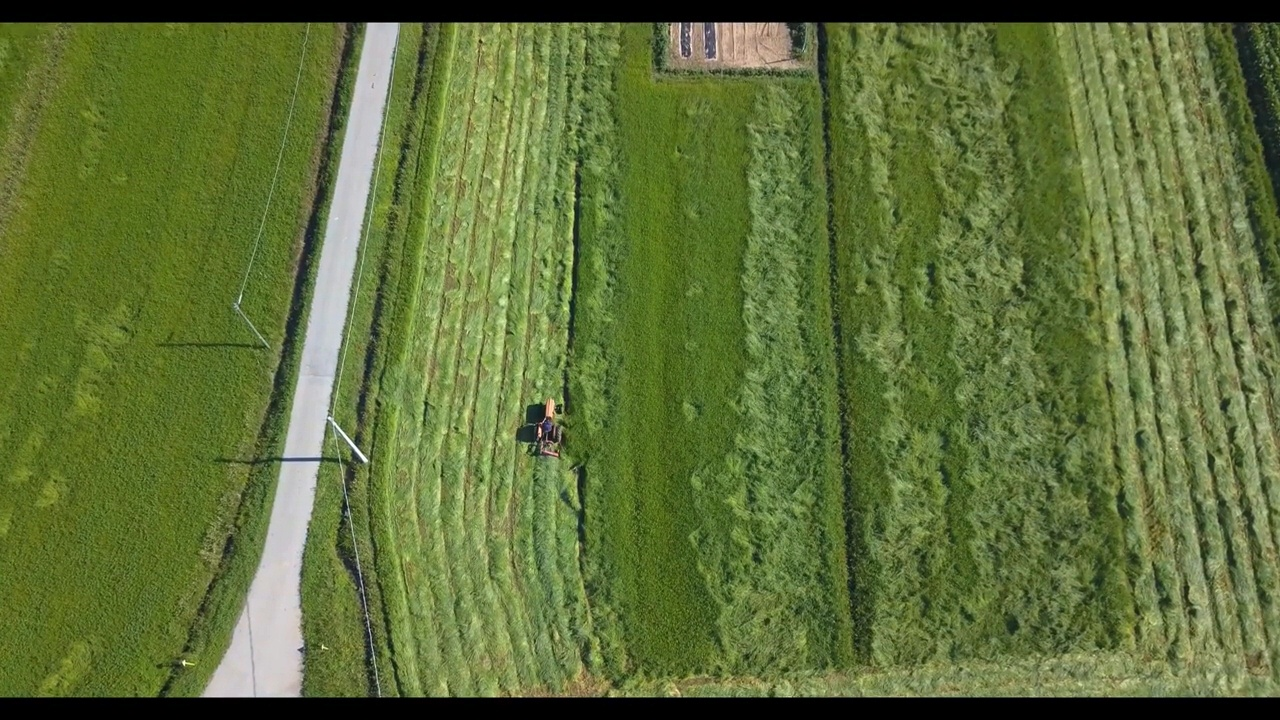insan: (542, 418, 554, 434)
traktor: (533, 397, 564, 442)
